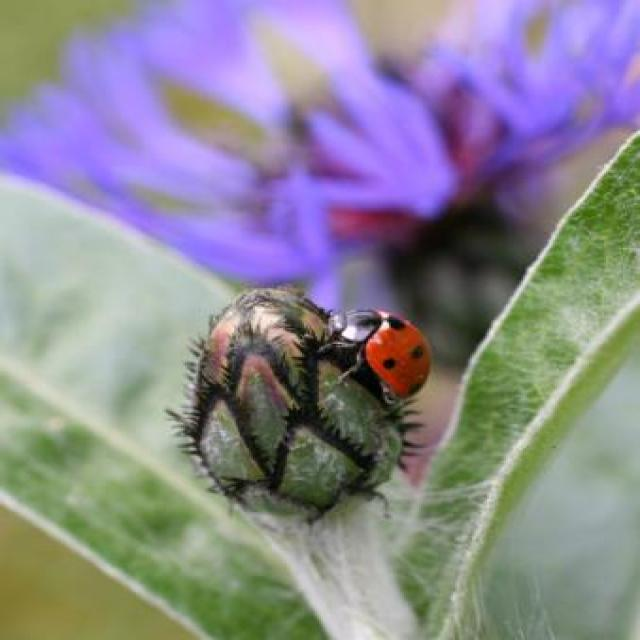body: (330, 310, 431, 399)
insect: (317, 308, 431, 400)
legs: (316, 340, 363, 384)
wings: (363, 311, 430, 399)
